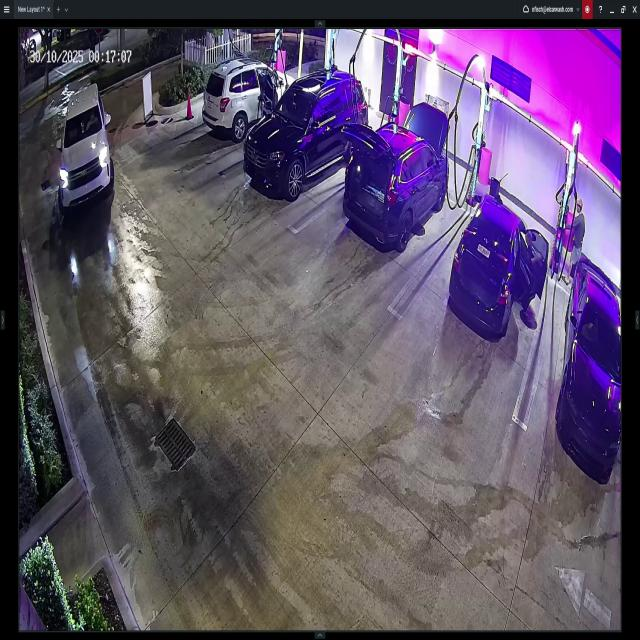Car: (248, 66, 368, 192), (346, 101, 450, 241), (559, 258, 624, 474), (445, 195, 545, 334), (201, 64, 298, 143), (59, 72, 109, 212)
